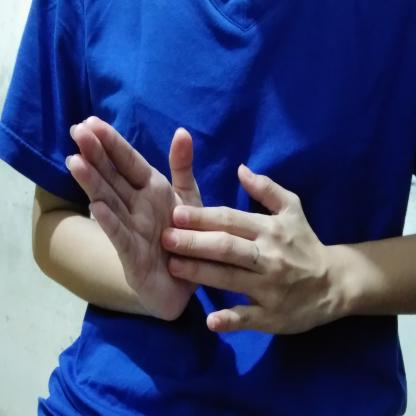mother: (58, 101, 364, 343)
